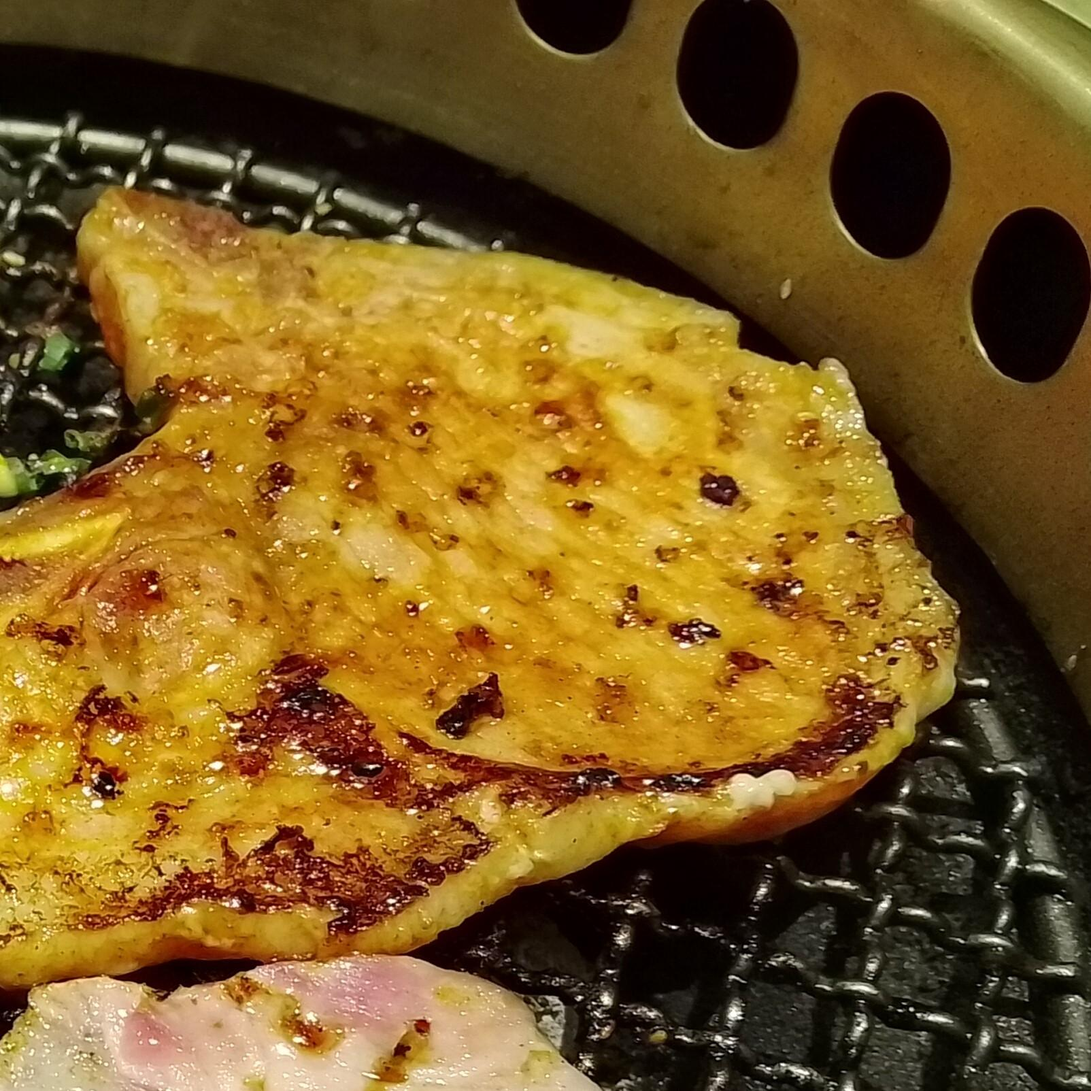Undercooked: (0, 957, 601, 1090)
Well-Cooked: (0, 187, 952, 1004)
